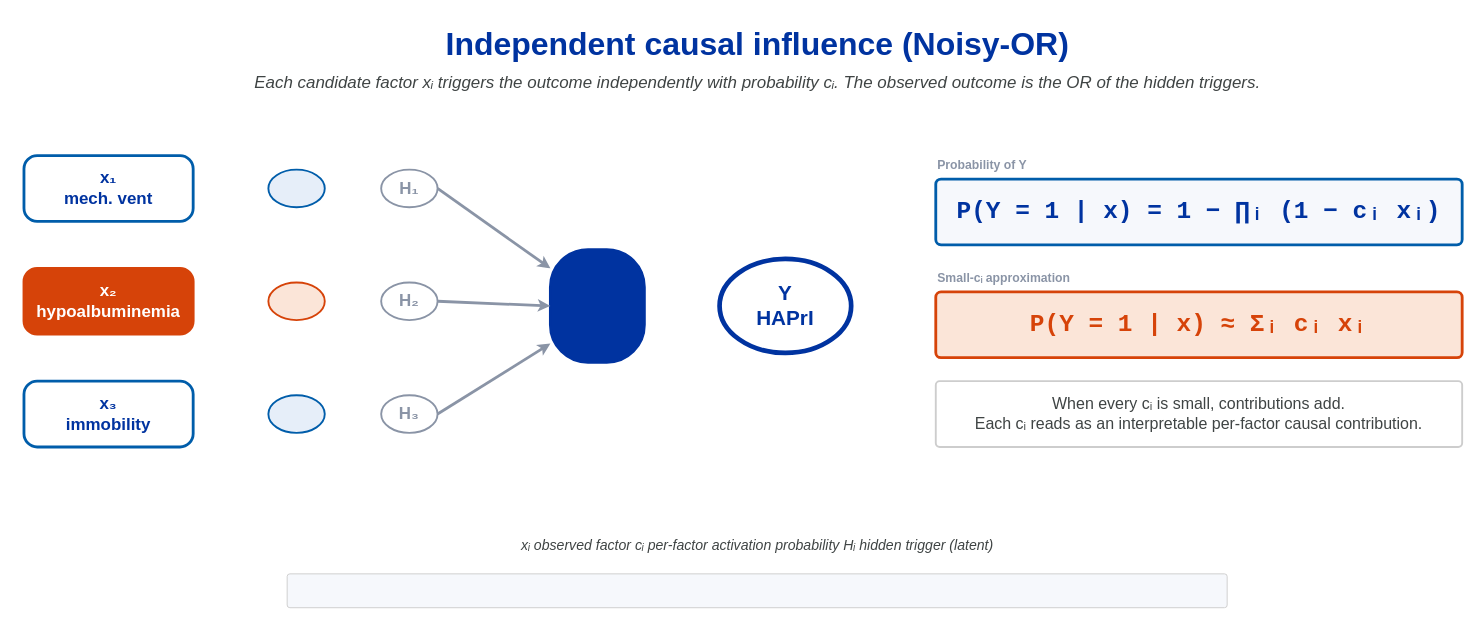
Image size: 1480x624. Some labels were removed from this diagram. Each missing label, with the box of its shape:
Assumption: the hidden triggers Hᵢ are conditionally independent given xᵢ.: (286, 573, 1227, 608)
c₁: (267, 168, 325, 208)
c₂: (267, 281, 325, 321)
c₃: (267, 394, 325, 433)
OR: (548, 248, 645, 363)
